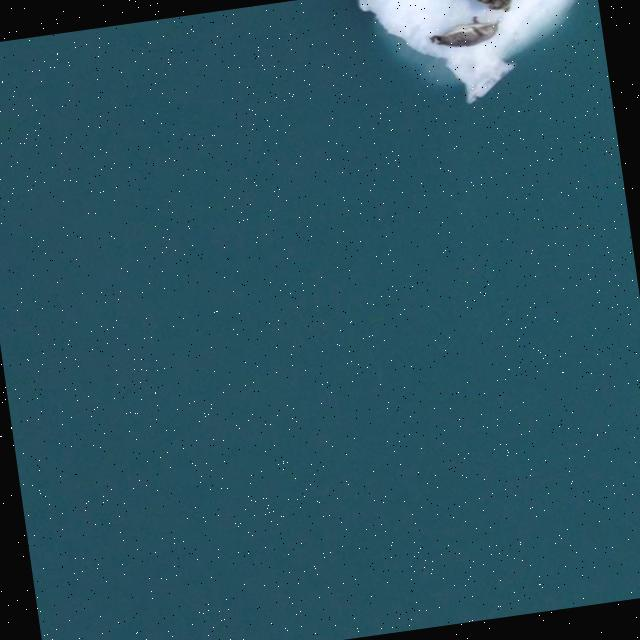seal: (429, 10, 502, 62), (474, 0, 512, 12)
